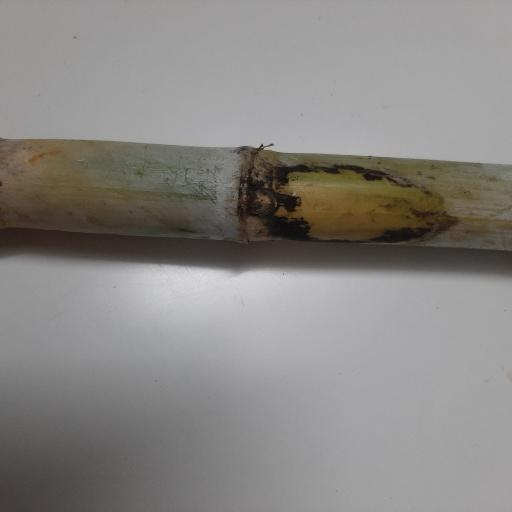Bud: (246, 190, 278, 215)
